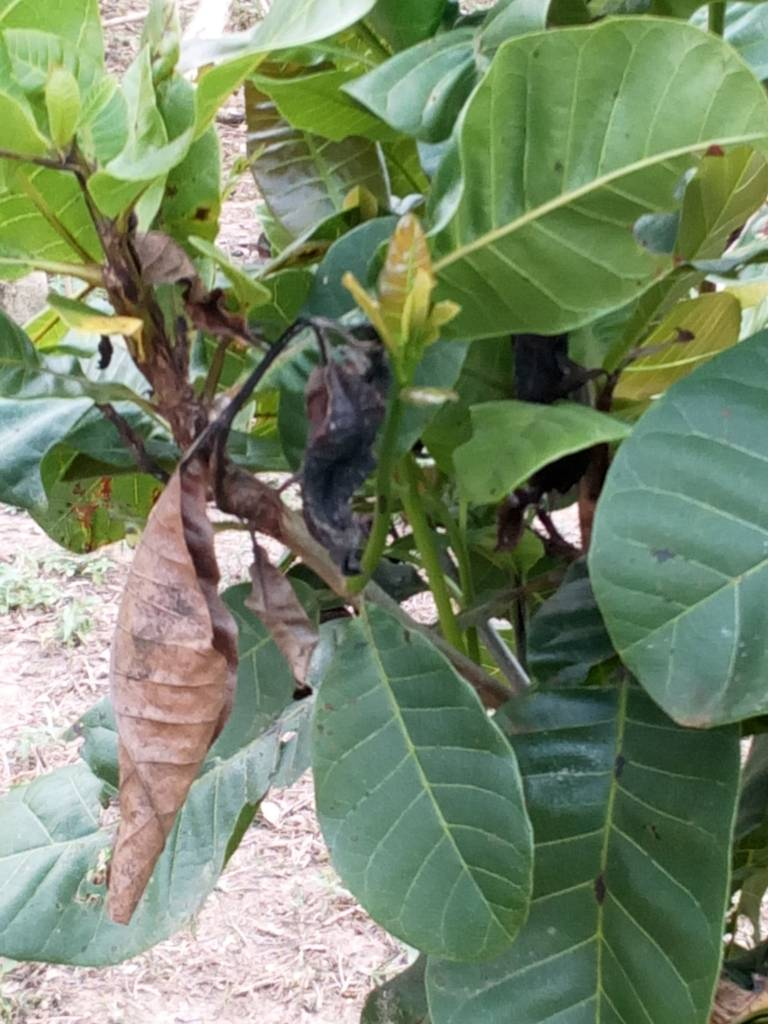Dessèchement des bourgeons: (129, 233, 241, 333), (506, 322, 599, 415), (232, 327, 304, 414)
